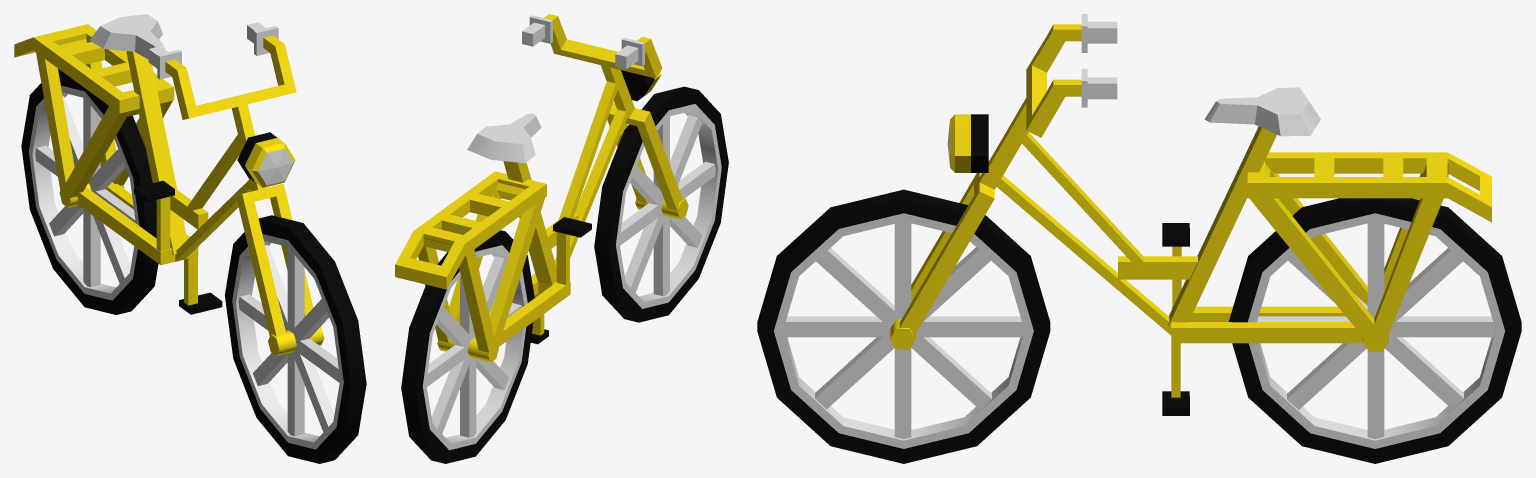
File: Cycle_1.FBX
The picture shows the model from 3 angles, left to right: view 1: azimuth 30°, elevation 25°; view 2: azimuth 150°, elevation 25°; view 3: azimuth 270°, elevation 25°; orthographic projection. The views are drawn at different scales.
Visible parts, largest first — view 1: Cycle_1; view 2: Cycle_1; view 3: Cycle_1.
Boxes of the visible parts, x1=… form: Cycle_1: x1=14, y1=14, x2=366, y2=463; Cycle_1: x1=395, y1=14, x2=728, y2=463; Cycle_1: x1=757, y1=14, x2=1521, y2=463.
Size of the model in its own units: 0.4772 by 1.37 by 2.3.
Materials: 1 (1 with a texture image).
